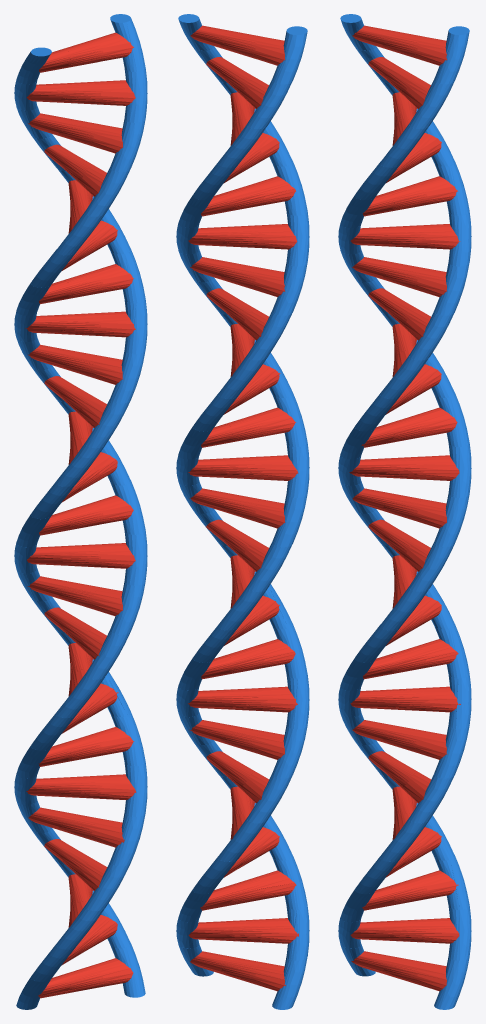
Rendered from Dna2small.gltf.
3 renders of one model, left to right at view 1: azimuth 30°, elevation 25°; view 2: azimuth 150°, elevation 25°; view 3: azimuth 330°, elevation 25°, orthographic.
Visible parts, largest first — view 1: Cylinder.002; view 2: Cylinder.002; view 3: Cylinder.002.
Boxes of the visible parts, x1=… form: Cylinder.002: x1=14, y1=14, x2=147, y2=1009; Cylinder.002: x1=176, y1=14, x2=309, y2=1009; Cylinder.002: x1=338, y1=14, x2=471, y2=1009.
Bounding box in the file's own units: 10.01 × 80.09 × 10.01.
